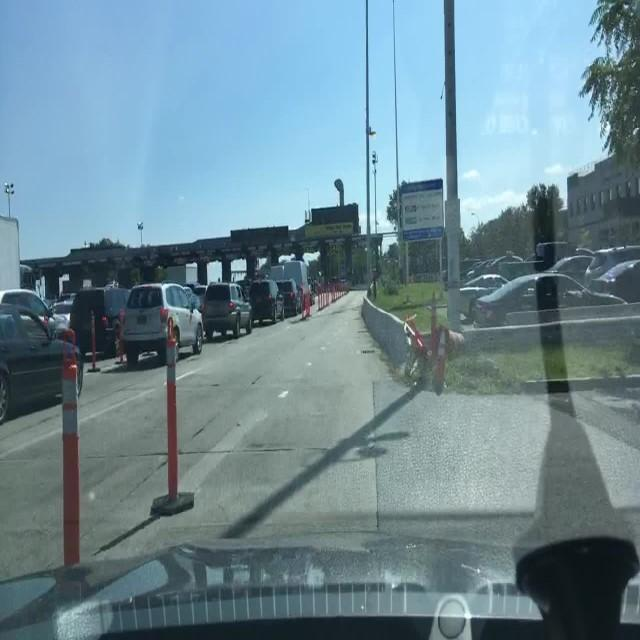normal: (0, 293, 69, 428), (118, 280, 204, 365), (200, 281, 253, 338), (247, 279, 281, 324), (272, 279, 303, 318), (48, 298, 75, 335)
